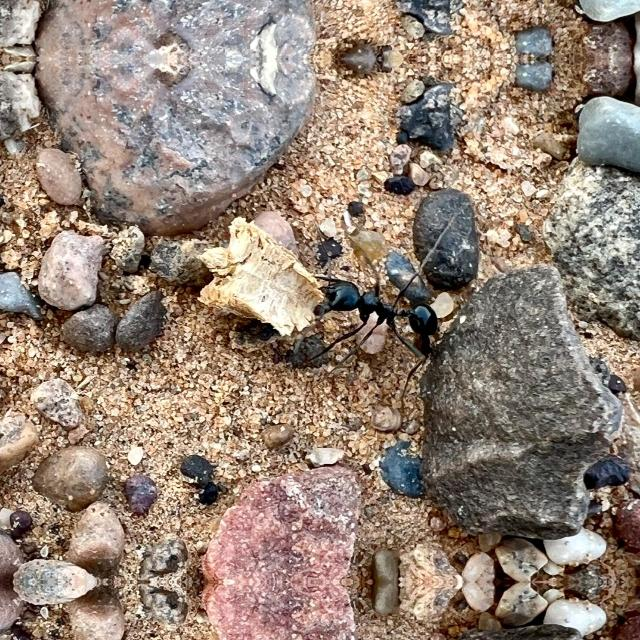Messor: (324, 266, 460, 358)
